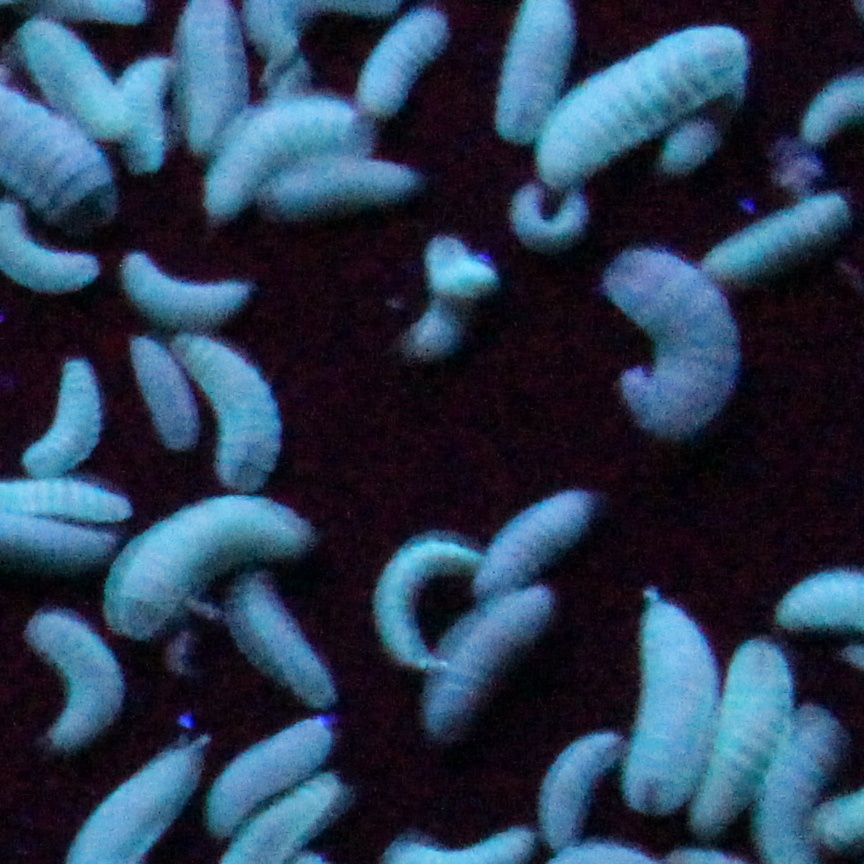larve: (543, 15, 764, 181), (595, 242, 754, 447), (107, 488, 316, 628), (632, 588, 720, 813), (709, 622, 798, 844), (202, 101, 375, 208), (173, 331, 286, 494), (366, 526, 482, 678), (204, 717, 327, 842), (23, 606, 125, 756), (20, 13, 136, 138), (432, 592, 545, 719), (479, 481, 604, 588), (7, 358, 104, 476), (700, 201, 850, 276), (118, 249, 252, 331), (241, 588, 334, 706), (536, 733, 616, 851), (348, 17, 445, 113), (264, 160, 427, 213), (125, 326, 191, 451), (125, 53, 175, 176), (516, 169, 591, 251)
